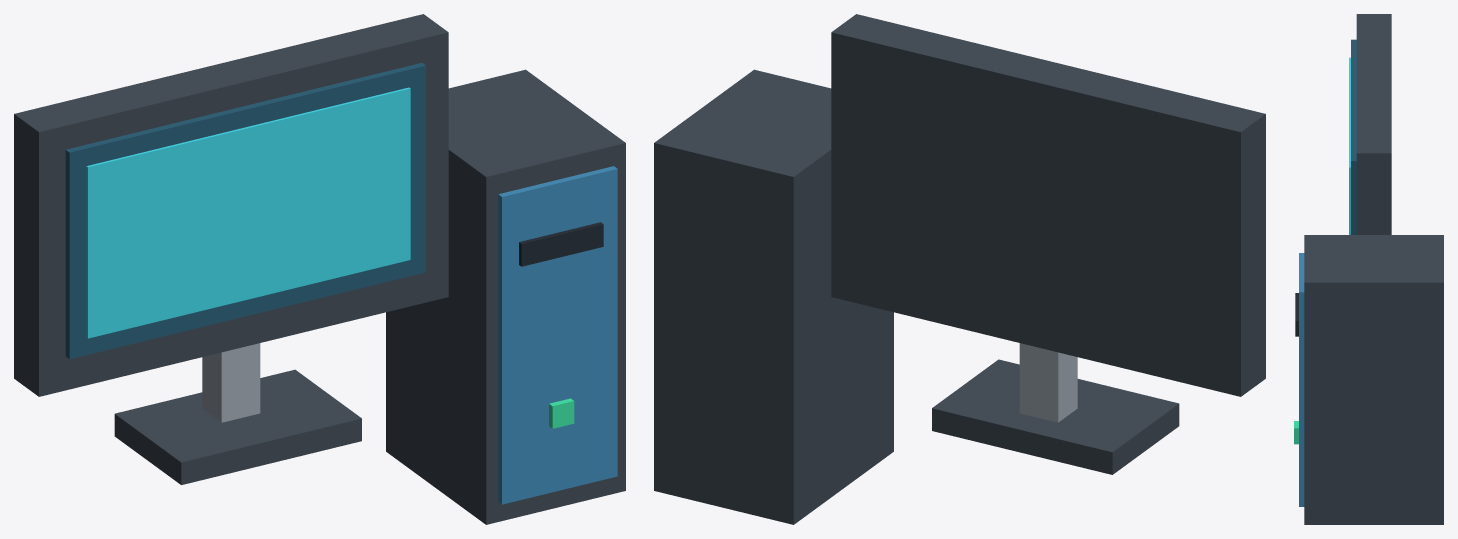
3 renders of one model, left to right at view 1: azimuth 30°, elevation 25°; view 2: azimuth 150°, elevation 25°; view 3: azimuth 270°, elevation 25°, orthographic. The views are drawn at different scales.
Parts seen in each view (by area): view 1: Monitor glow, Monitor casing, Tower, Tower face, Display, Monitor foot, Monitor neck, Drive bay; view 2: Monitor casing, Tower, Monitor foot, Monitor neck; view 3: Tower, Monitor casing, Tower face, Display, Monitor glow.
Part boxes in pixels (x1,y1,x2,y2): Monitor glow: [86, 87, 410, 338]; Monitor casing: [14, 14, 448, 396]; Tower: [386, 69, 625, 524]; Tower face: [498, 166, 617, 504]; Display: [65, 63, 425, 359]; Monitor foot: [114, 369, 361, 484]; Monitor neck: [202, 343, 260, 422]; Drive bay: [519, 222, 603, 266]; Monitor casing: [831, 14, 1265, 396]; Tower: [654, 69, 893, 524]; Monitor foot: [932, 359, 1179, 474]; Monitor neck: [1019, 343, 1077, 422]; Tower: [1304, 235, 1443, 524]; Monitor casing: [1356, 14, 1391, 234]; Tower face: [1299, 253, 1304, 506]; Display: [1351, 39, 1356, 234]; Monitor glow: [1349, 57, 1350, 234].
Bounding box in the file's own units: 2.28 × 1.84 × 0.7725.
